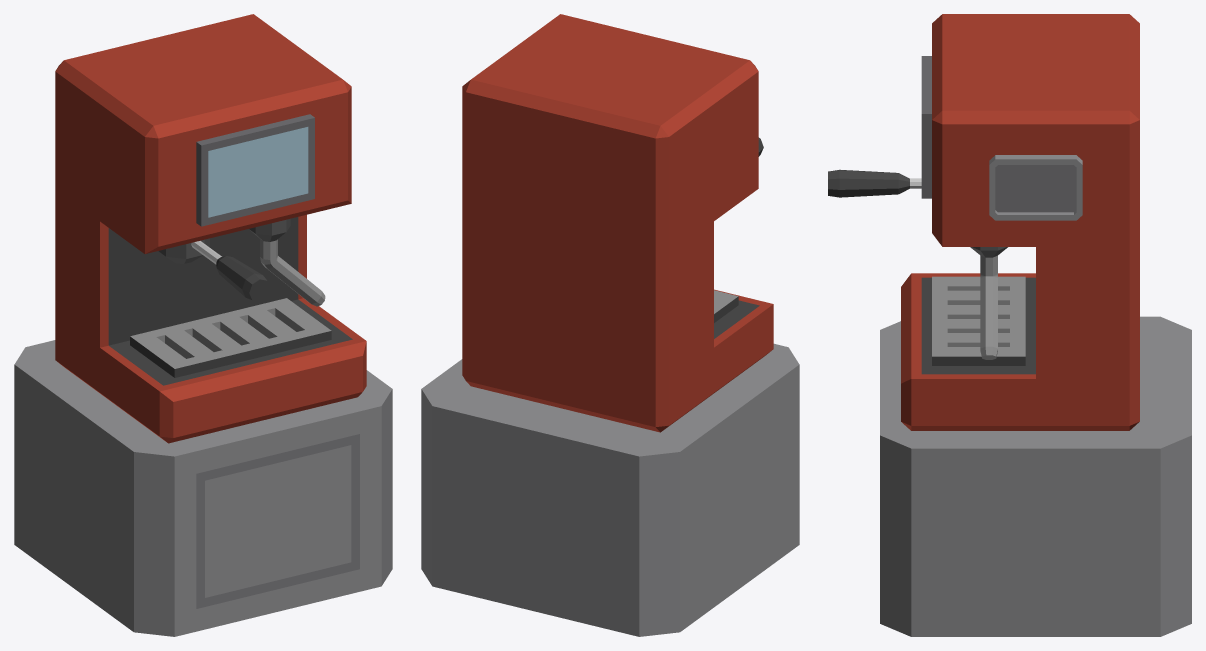
Rendered from CoffeeMachine03.fbx.
The picture shows the model from 3 angles, left to right: view 1: azimuth 30°, elevation 25°; view 2: azimuth 150°, elevation 25°; view 3: azimuth 270°, elevation 25°; orthographic projection. The views are drawn at different scales.
Visible parts, largest first — view 1: CoffeeMachine03; view 2: CoffeeMachine03; view 3: CoffeeMachine03.
Part boxes in pixels (x1,y1,x2,y2): CoffeeMachine03: (14,14,392,636); CoffeeMachine03: (421,14,799,636); CoffeeMachine03: (828,14,1191,636).
Size of the model in its own units: 1.5 by 2.7 by 1.75.
